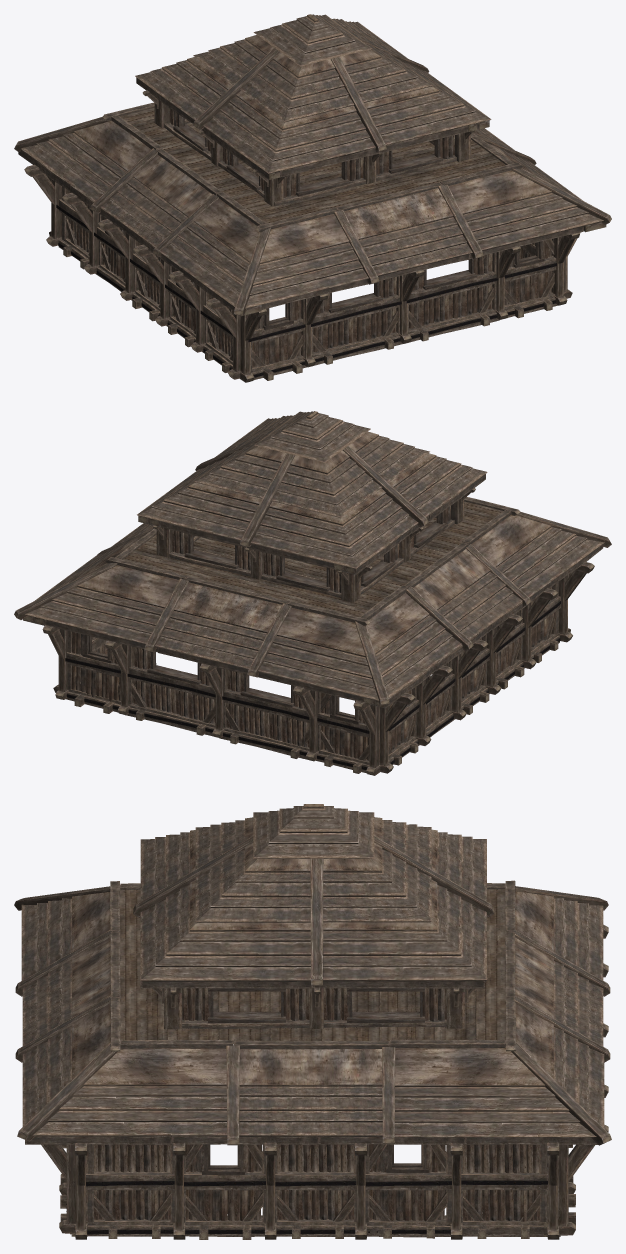
The model's file is jav_struc_fortkeep_truestone_pt2-transformed.glb.
The picture shows the model from 3 angles, top to bottom: view 1: azimuth 30°, elevation 25°; view 2: azimuth 150°, elevation 25°; view 3: azimuth 270°, elevation 25°; orthographic projection. The views are drawn at different scales.
Visible parts, largest first — view 1: default; view 2: default; view 3: default.
Boxes of the visible parts, x1,y1,x2,y2 form: default: [14, 14, 611, 382]; default: [14, 411, 611, 775]; default: [14, 804, 611, 1239].
Size of the model in its own units: 24.34 by 15.65 by 25.23.
Materials: 3 (3 with a texture image).
